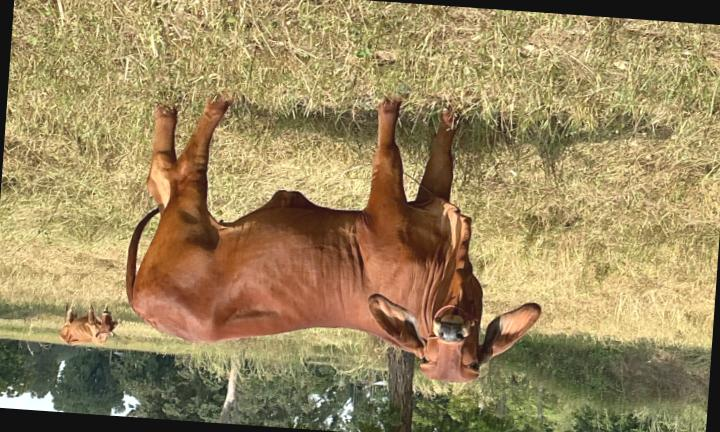Brahman: (126, 99, 540, 382), (59, 305, 117, 345)
